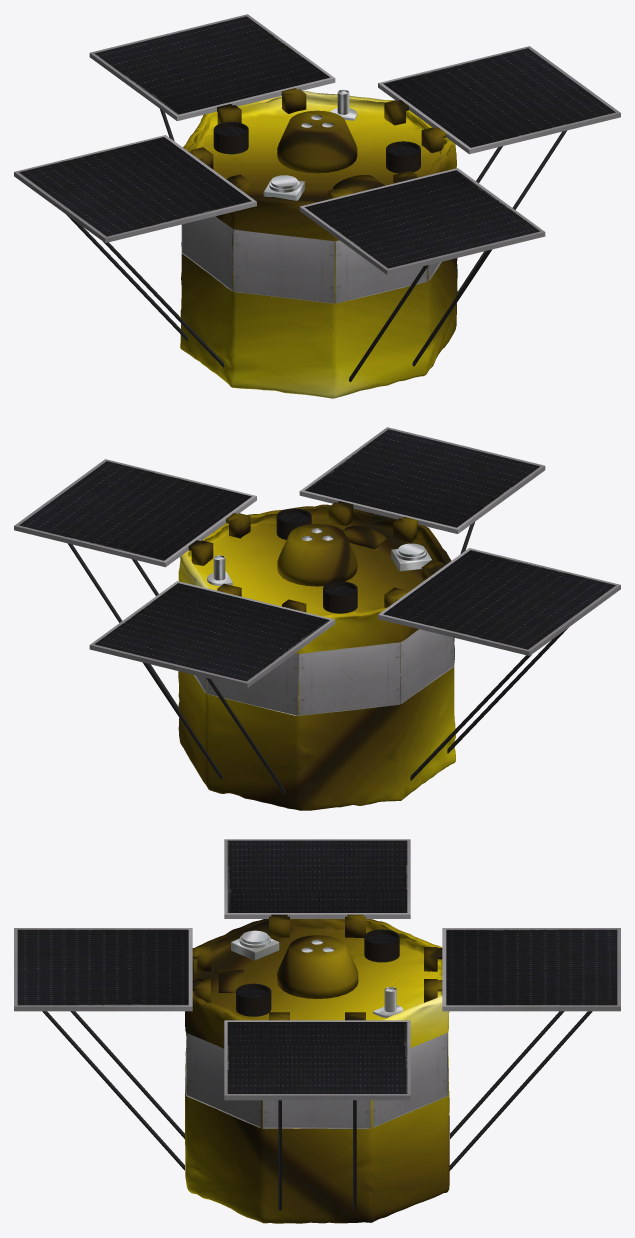
Rendered from acrimsat-a.glb.
3 views of the same model, one above another, from view 1: azimuth 30°, elevation 25°; view 2: azimuth 150°, elevation 25°; view 3: azimuth 270°, elevation 25° (orthographic).
Parts seen in each view (by area): view 1: shiny_panel, foil_gold, black_krinkle; view 2: shiny_panel, foil_gold, black_krinkle; view 3: shiny_panel, foil_gold, black_krinkle.
Part boxes in pixels (bbox=[...]): shiny_panel: bbox=[14, 14, 620, 303]; foil_gold: bbox=[180, 88, 457, 398]; black_krinkle: bbox=[66, 109, 567, 381]; shiny_panel: bbox=[14, 427, 620, 715]; foil_gold: bbox=[178, 501, 455, 810]; black_krinkle: bbox=[67, 522, 568, 794]; shiny_panel: bbox=[14, 839, 620, 1128]; foil_gold: bbox=[185, 914, 449, 1223]; black_krinkle: bbox=[42, 1011, 592, 1210].
Size of the model in its own units: 1.8 by 0.7335 by 1.8.
Materials: 3 (2 with a texture image).
